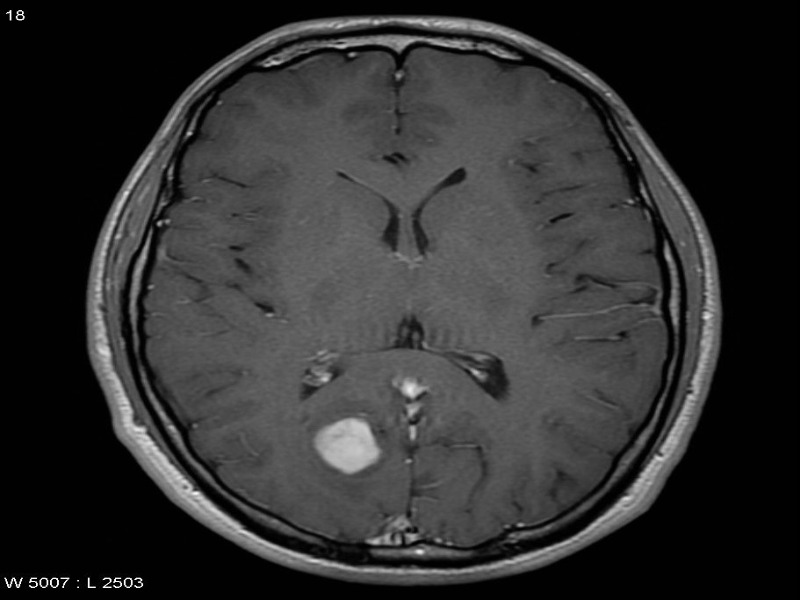tumor: (307, 413, 399, 487)
